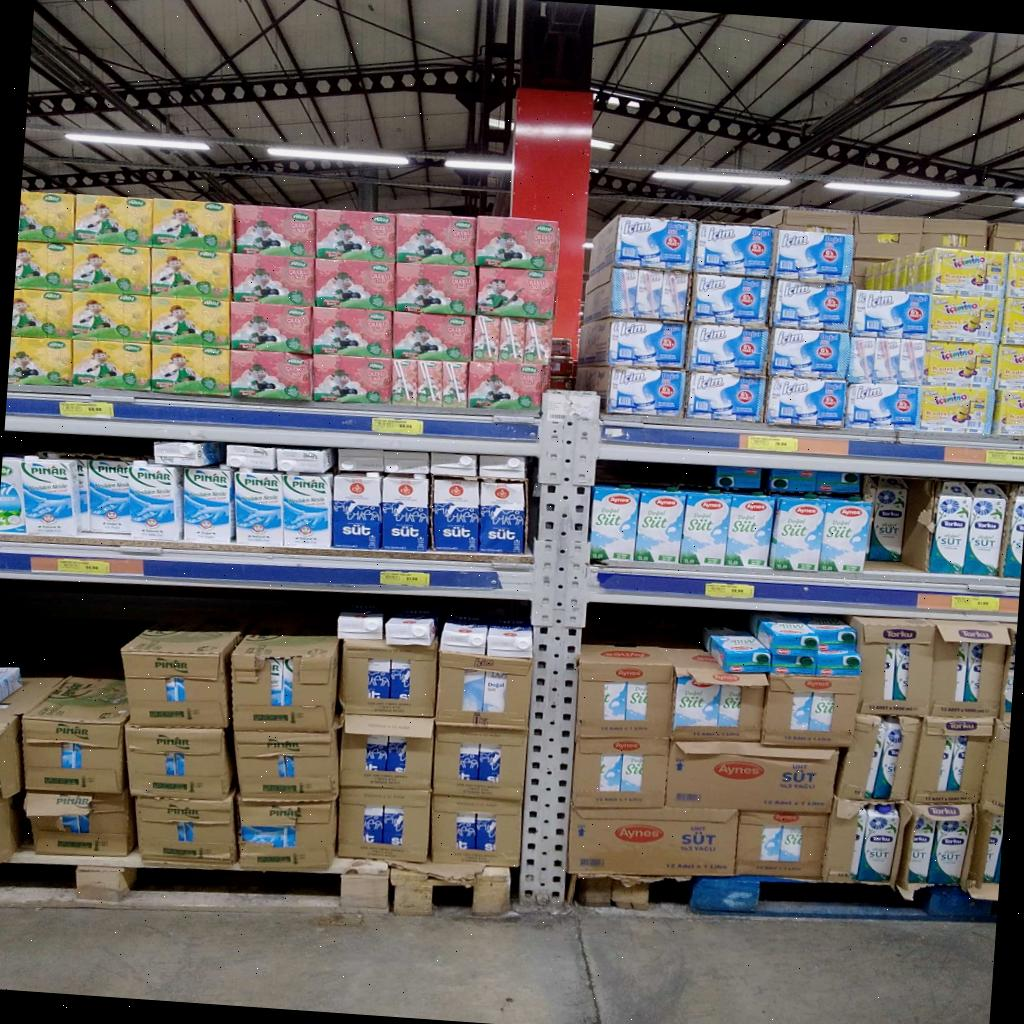price_tag: (372, 417, 424, 435), (59, 401, 113, 418), (746, 435, 799, 452), (57, 559, 110, 575), (705, 582, 754, 599), (952, 595, 1000, 612), (380, 571, 430, 587), (985, 449, 1023, 466)
product: (589, 216, 697, 277), (584, 267, 690, 322), (578, 319, 687, 369), (579, 367, 686, 417), (16, 457, 79, 536), (475, 217, 559, 271), (689, 273, 771, 328), (232, 253, 315, 306), (695, 223, 774, 278), (918, 248, 1006, 297), (151, 292, 229, 347), (151, 199, 233, 251), (234, 205, 316, 257), (477, 267, 557, 320), (774, 229, 854, 282), (129, 461, 182, 540), (230, 303, 312, 354), (770, 280, 852, 331), (769, 328, 851, 379), (764, 377, 846, 428), (395, 214, 475, 266), (396, 263, 476, 315), (315, 259, 395, 311), (689, 323, 769, 375), (230, 350, 311, 401), (769, 498, 824, 572), (72, 243, 150, 295), (150, 249, 231, 299), (316, 211, 395, 262), (964, 483, 1007, 576), (74, 195, 152, 246), (151, 344, 229, 395), (313, 308, 392, 358), (184, 467, 235, 544), (393, 313, 473, 362), (928, 482, 971, 573), (233, 469, 283, 547), (73, 339, 151, 389), (468, 361, 546, 411), (590, 484, 640, 562), (473, 316, 553, 364), (72, 293, 150, 342), (687, 372, 765, 421), (333, 472, 382, 549), (847, 337, 927, 384), (283, 473, 332, 549), (928, 294, 1002, 344), (313, 356, 391, 403), (852, 291, 930, 338), (820, 500, 870, 573), (725, 495, 775, 567), (85, 459, 131, 537), (635, 490, 684, 563), (381, 475, 428, 551), (391, 360, 467, 407), (432, 478, 480, 552), (681, 493, 730, 565), (844, 383, 920, 429), (921, 341, 995, 388), (919, 385, 988, 434), (8, 335, 73, 386), (481, 481, 526, 553), (11, 289, 71, 338), (18, 191, 75, 242), (14, 241, 72, 291), (1000, 485, 1024, 578), (0, 457, 26, 534), (991, 389, 1024, 436), (997, 345, 1024, 390), (1001, 298, 1024, 345), (1006, 252, 1024, 299)
